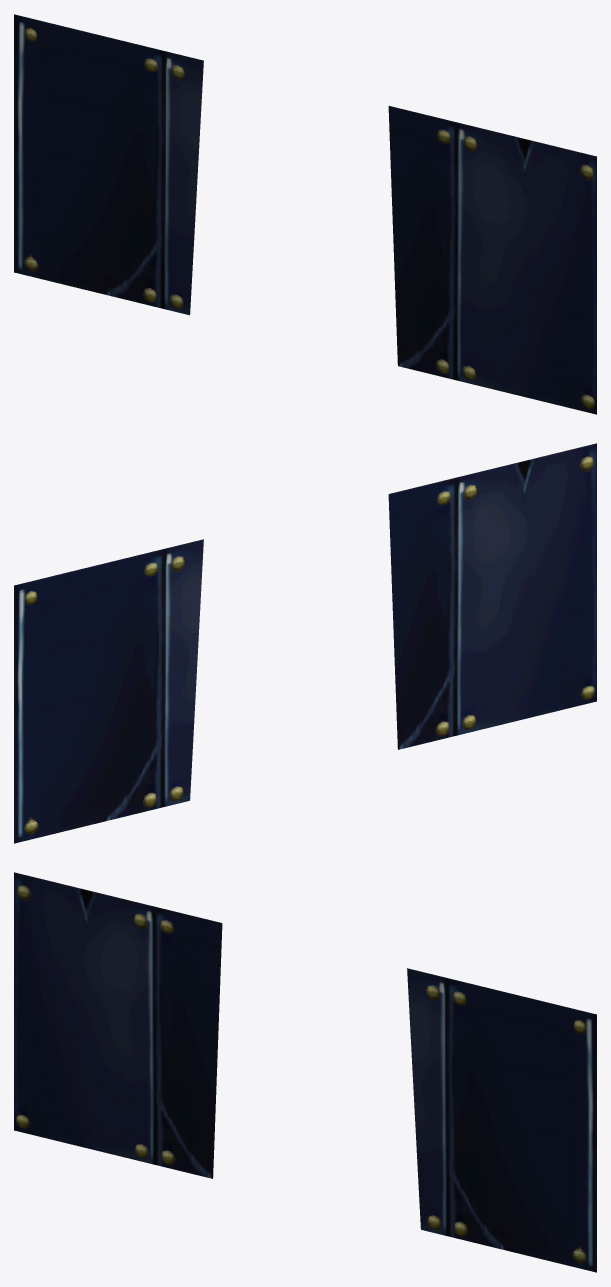
The model's file is Polizei_Wand_AEingang_2575.glb.
3 views of the same model, one above another, from view 1: azimuth 90°, elevation 25°; view 2: azimuth 150°, elevation 25°; view 3: azimuth 270°, elevation 25° (orthographic).
Parts seen in each view (by area): view 1: pPlaneShape358; view 2: pPlaneShape358; view 3: pPlaneShape358.
Boxes of the visible parts, x1,y1,x2,y2 form: pPlaneShape358: (14,14,596,414); pPlaneShape358: (14,443,596,843); pPlaneShape358: (14,872,596,1272).
Size of the model in its own units: 0.4598 by 0.3891 by 0.7964.
1 material, 1 textured.
